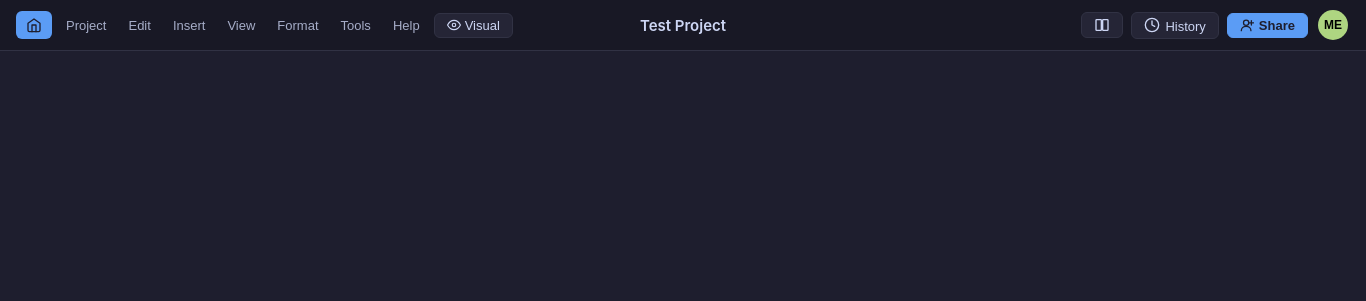
Test: Toolbar › opens Format menu
The width and height of the screenshot is (1366, 301).
Click the button "Format": [298, 25] box [267, 14, 328, 36]
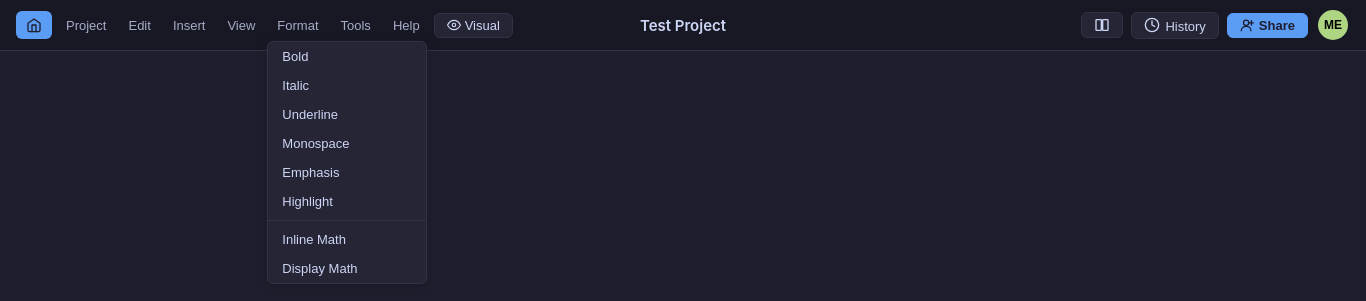
Expected: the button "Bold" is shown, [268, 42, 426, 70]
Expected: the button "Italic" is shown, [268, 70, 426, 100]
